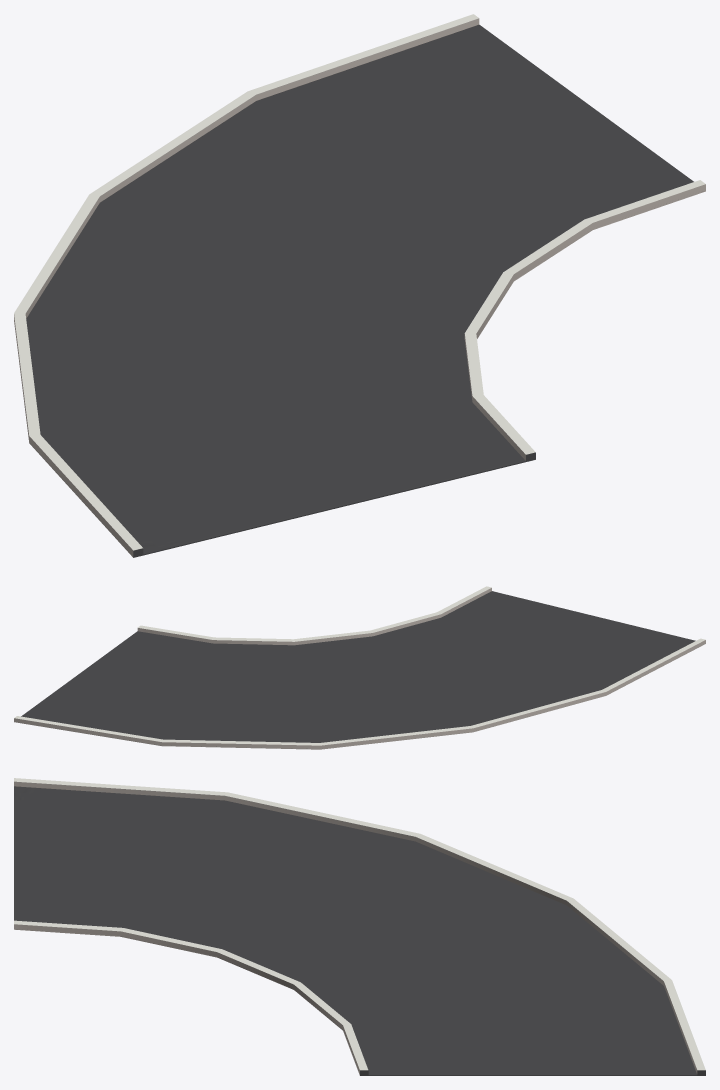
File: road04.FBX
The picture shows the model from 3 angles, top to bottom: view 1: azimuth 30°, elevation 25°; view 2: azimuth 150°, elevation 25°; view 3: azimuth 270°, elevation 25°; orthographic projection. The views are drawn at different scales.
Visible parts, largest first — view 1: 001; view 2: 001; view 3: 001.
Part boxes in pixels (box(x1,y1,x2,y2)): 001: box(14, 14, 705, 557); 001: box(14, 586, 705, 749); 001: box(14, 778, 705, 1075).
Bounding box in the file's own units: 157 × 1.38 × 157.
1 material, 1 textured.
